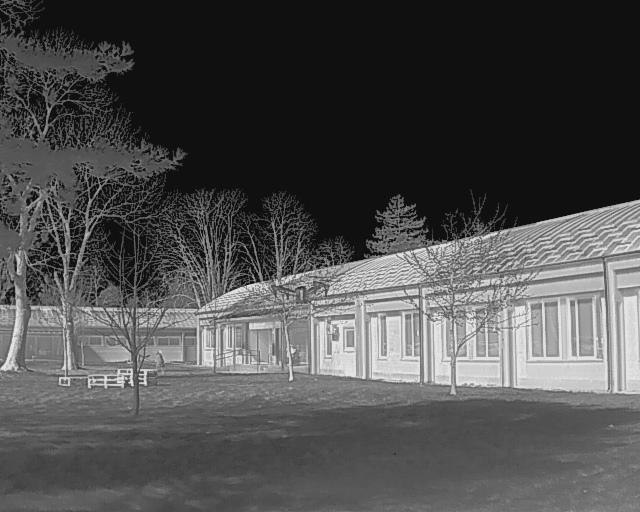drone: (264, 275, 336, 312)
